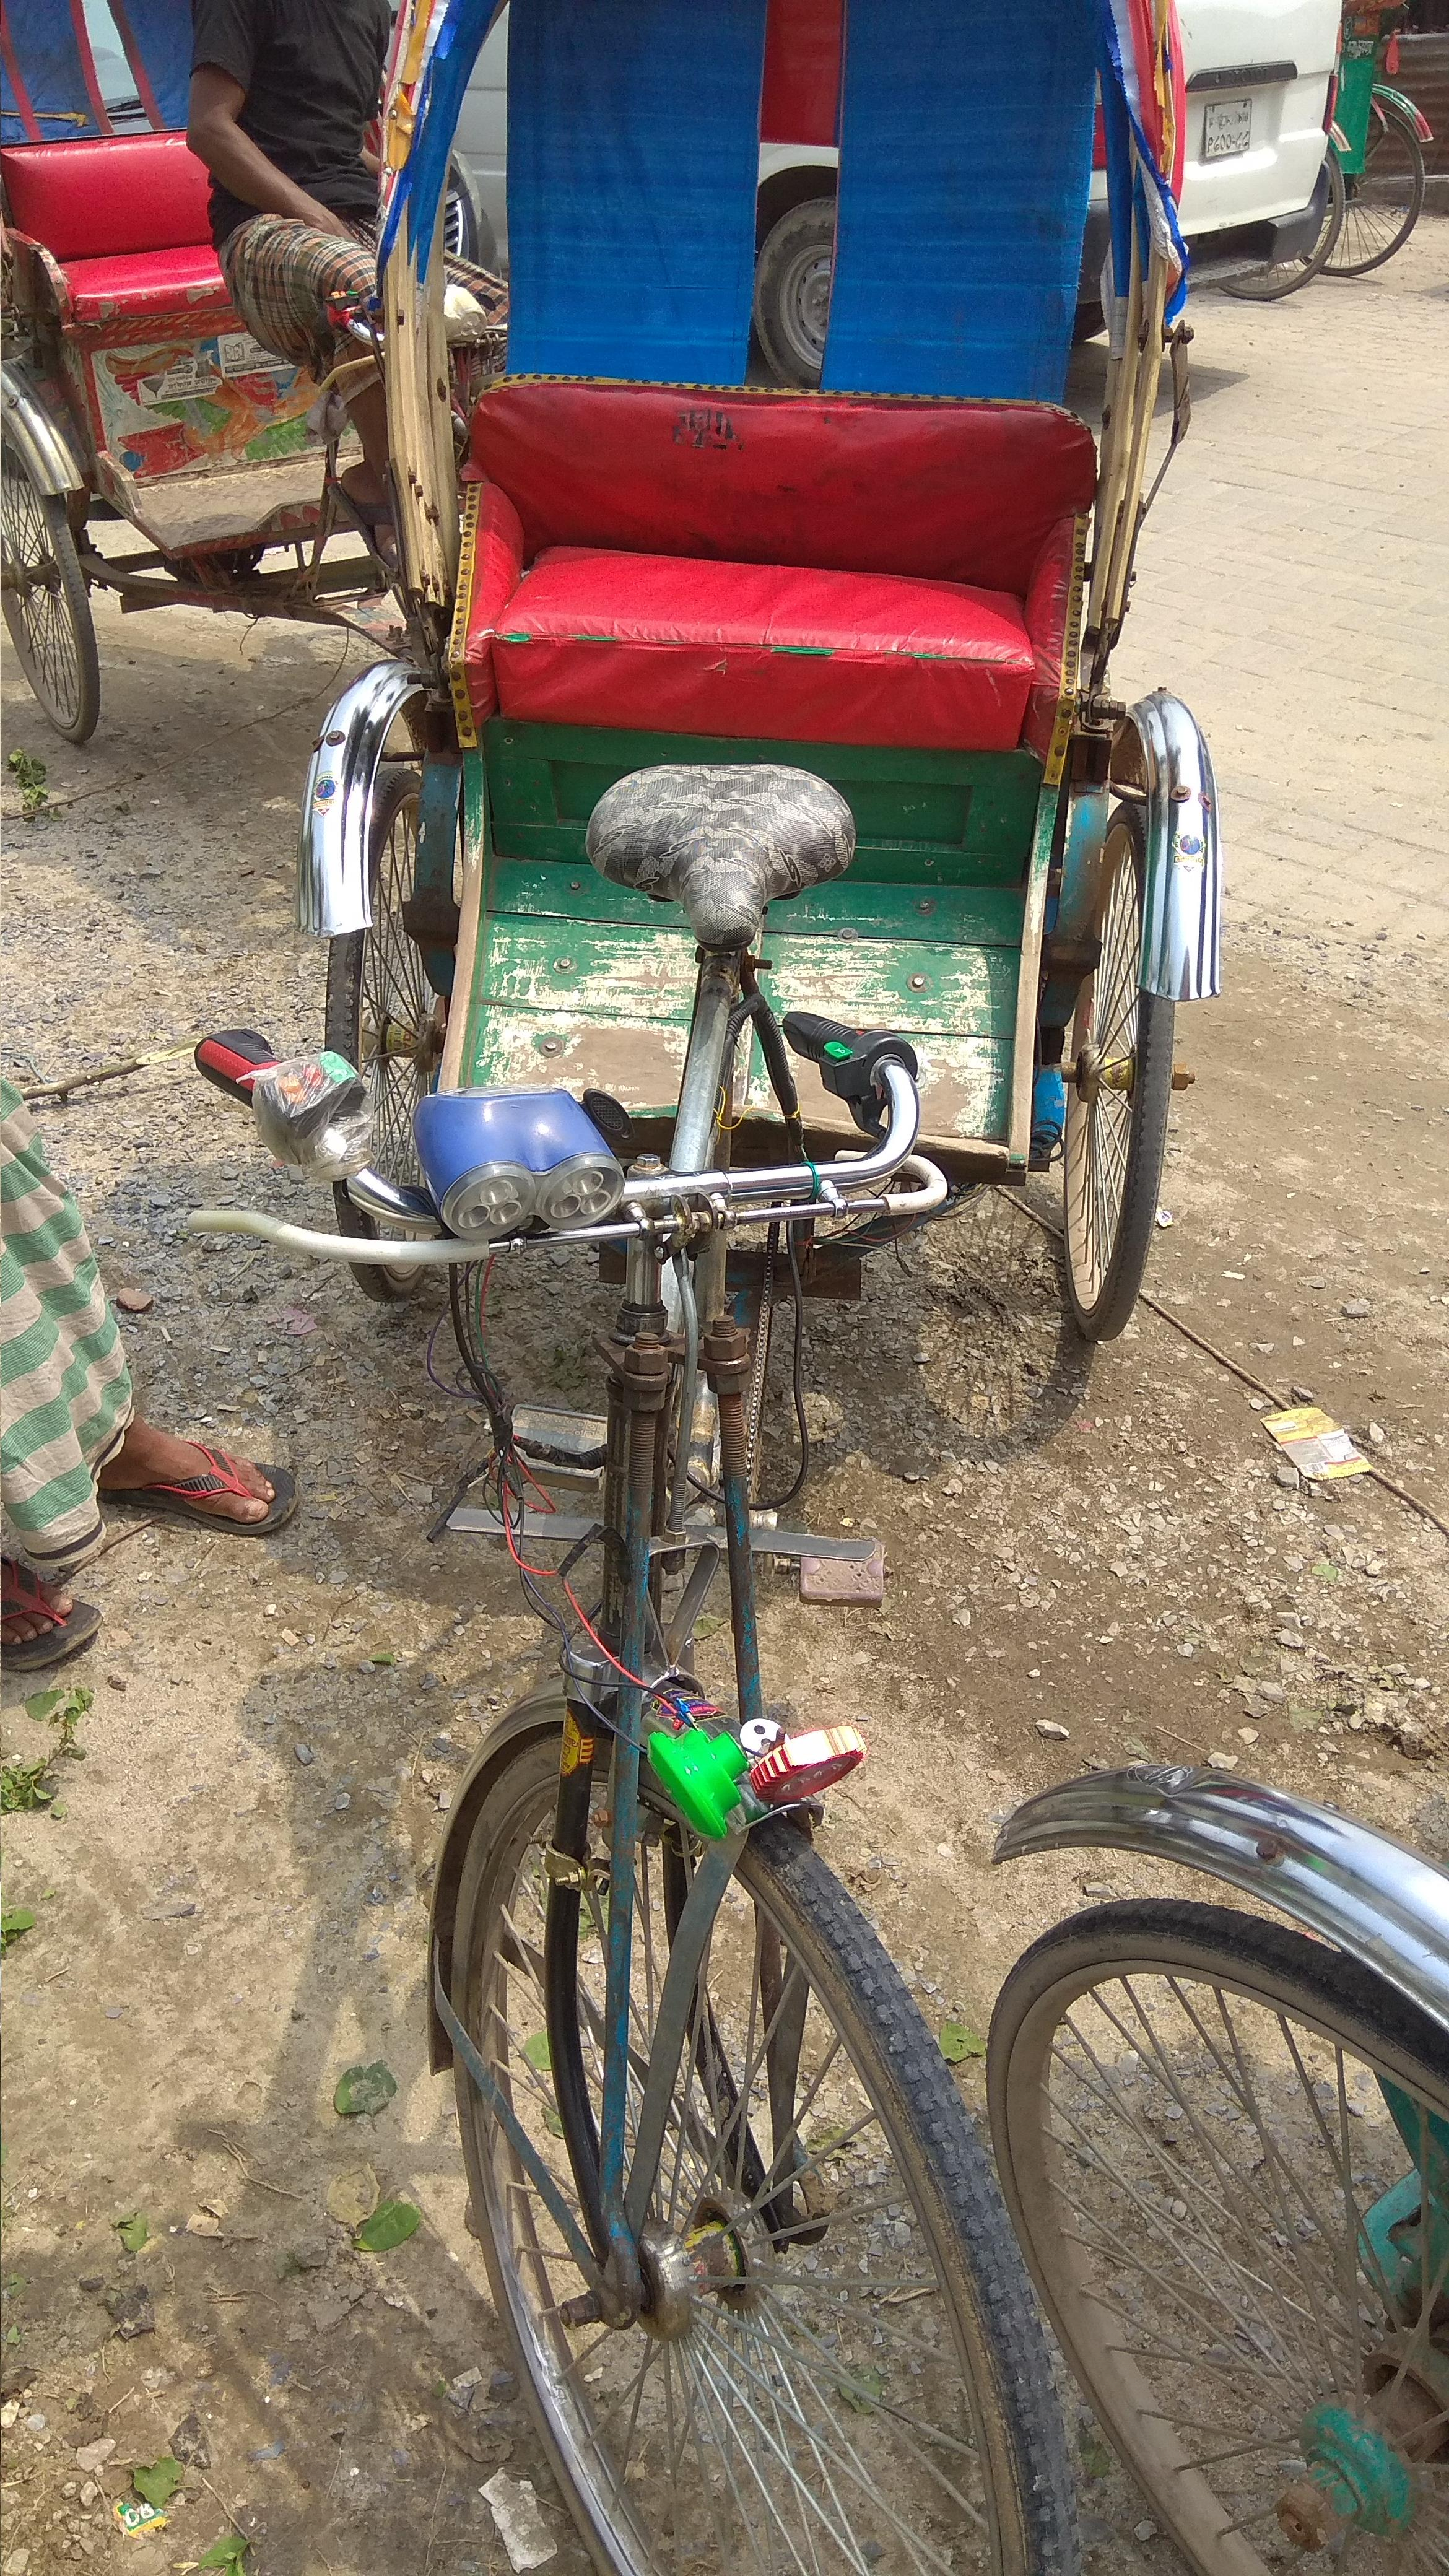Rickshaw: (354, 11, 1233, 2449), (23, 11, 464, 754)
